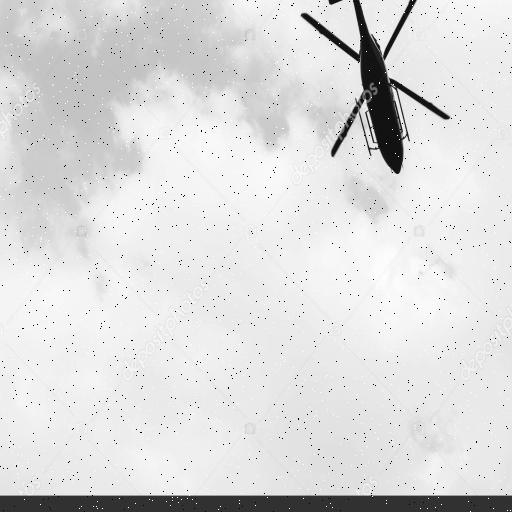helicopter: (298, 1, 451, 176)
